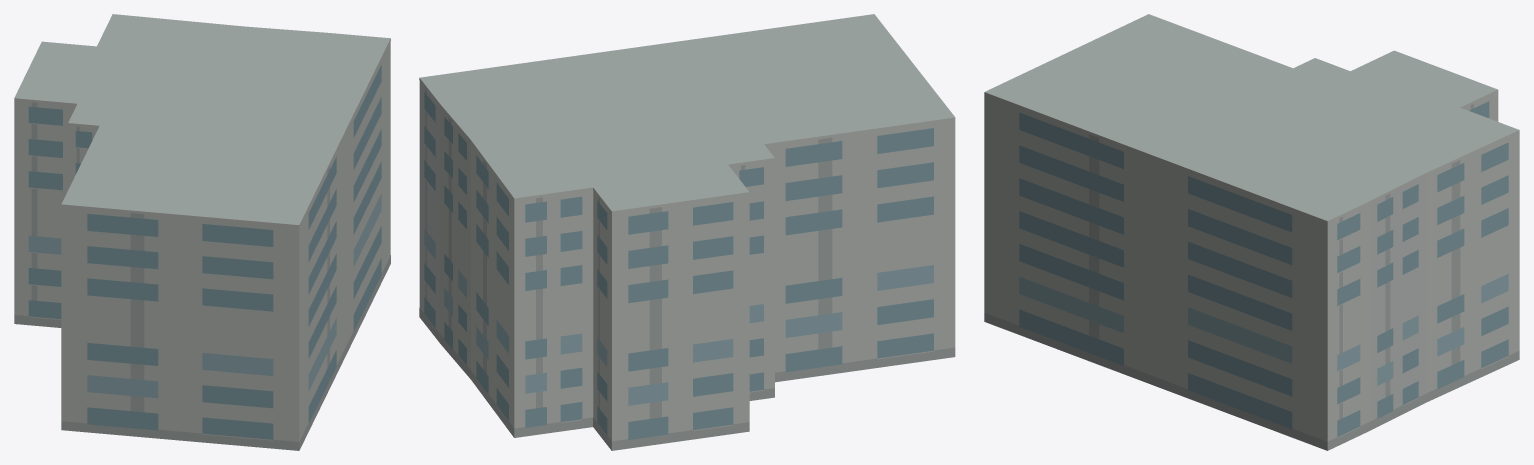
Rendered from residential-4b0fc6ca-6469-4894-b3c6-8dabab3ef5d1.glb.
3 views of the same model, side by side, from view 1: azimuth 30°, elevation 25°; view 2: azimuth 150°, elevation 25°; view 3: azimuth 270°, elevation 25° (orthographic). The views are drawn at different scales.
Parts seen in each view (by area): view 1: residential-4b0fc6ca-6469-4894-b3c6-8dabab3ef5d1.tmp; view 2: residential-4b0fc6ca-6469-4894-b3c6-8dabab3ef5d1.tmp; view 3: residential-4b0fc6ca-6469-4894-b3c6-8dabab3ef5d1.tmp.
Boxes of the visible parts, x1,y1,x2,y2 form: residential-4b0fc6ca-6469-4894-b3c6-8dabab3ef5d1.tmp: (14,14,390,450); residential-4b0fc6ca-6469-4894-b3c6-8dabab3ef5d1.tmp: (419,14,955,450); residential-4b0fc6ca-6469-4894-b3c6-8dabab3ef5d1.tmp: (984,14,1519,450).
Bounding box in the file's own units: 41.3 × 21.35 × 45.09.
